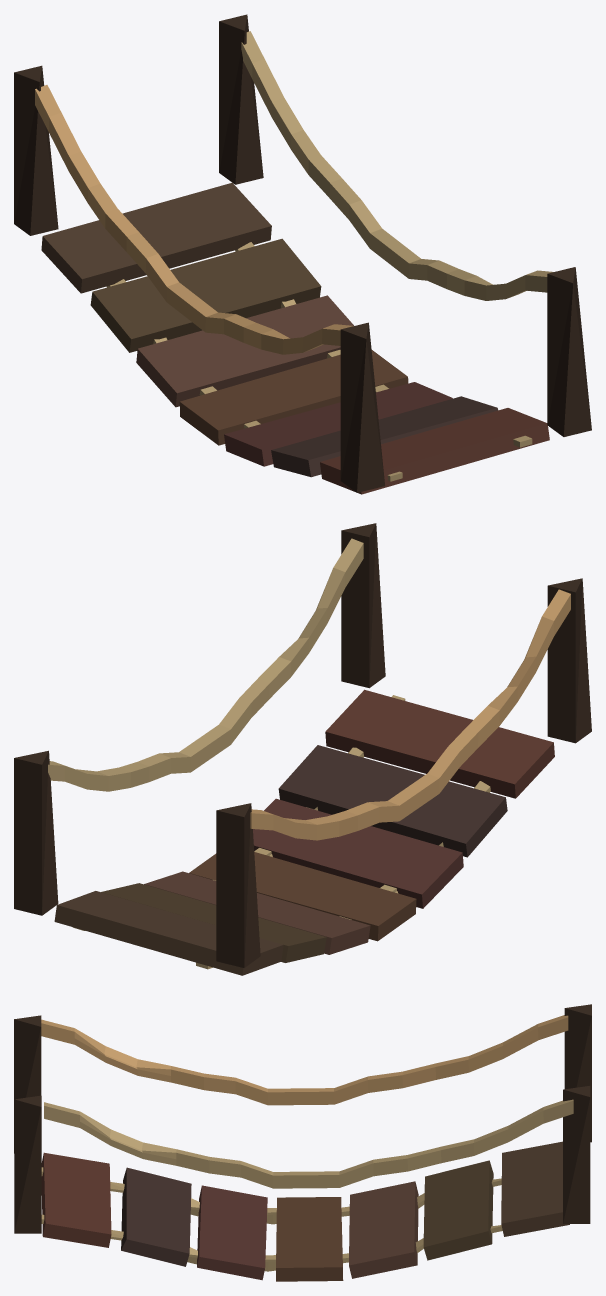
Rendered from brotest.fbx.
3 views of the same model, one above another, from view 1: azimuth 30°, elevation 25°; view 2: azimuth 150°, elevation 25°; view 3: azimuth 270°, elevation 25° (orthographic). The views are drawn at different scales.
Parts seen in each view (by area): view 1: Cube.006, Cube.004, Cube.003, Cube.011, Cube.012, Cube, Cube.005, Cube.008, Cube.007, Cube.009, Cube.010, Cube.001 (+1 smaller); view 2: Cube.005, Cube.002, Cube.001, Cube.011, Cube.012, Cube.006, Cube, Cube.010, Cube.009, Cube.007, Cube.008, Cube.003 (+1 smaller); view 3: Cube.012, Cube.011, Cube.005, Cube.004, Cube.003, Cube.002, Cube.001, Cube, Cube.006, Cube.007, Cube.009, Cube.010 (+3 smaller).
Part boxes in pixels (x1,y1,x2,y2): Cube.006: [41, 182, 271, 293]; Cube.004: [90, 238, 321, 352]; Cube.003: [136, 295, 353, 407]; Cube.011: [35, 85, 353, 354]; Cube.012: [241, 31, 553, 300]; Cube: [179, 350, 408, 445]; Cube.005: [320, 408, 549, 494]; Cube.008: [340, 322, 384, 492]; Cube.007: [547, 267, 591, 436]; Cube.009: [219, 14, 263, 184]; Cube.010: [14, 65, 58, 235]; Cube.001: [224, 382, 452, 466]; Cube.005: [325, 689, 554, 798]; Cube.002: [278, 745, 507, 857]; Cube.001: [253, 798, 463, 908]; Cube.011: [250, 589, 570, 840]; Cube.012: [48, 538, 363, 791]; Cube.006: [54, 891, 283, 975]; Cube: [189, 852, 416, 941]; Cube.010: [216, 803, 260, 967]; Cube.009: [14, 750, 58, 915]; Cube.007: [341, 523, 385, 688]; Cube.008: [547, 578, 591, 743]; Cube.003: [144, 871, 370, 954]; Cube.012: [44, 1099, 573, 1188]; Cube.011: [41, 1015, 568, 1105]; Cube.005: [41, 1152, 111, 1247]; Cube.004: [423, 1160, 493, 1260]; Cube.003: [349, 1181, 418, 1278]; Cube.002: [121, 1167, 191, 1266]; Cube.001: [197, 1185, 267, 1280]; Cube: [276, 1197, 343, 1281]; Cube.006: [501, 1141, 569, 1236]; Cube.007: [14, 1095, 41, 1233]; Cube.009: [563, 1086, 590, 1223]; Cube.010: [564, 1004, 591, 1142].
Size of the model in its own units: 629 by 612 by 1590.
